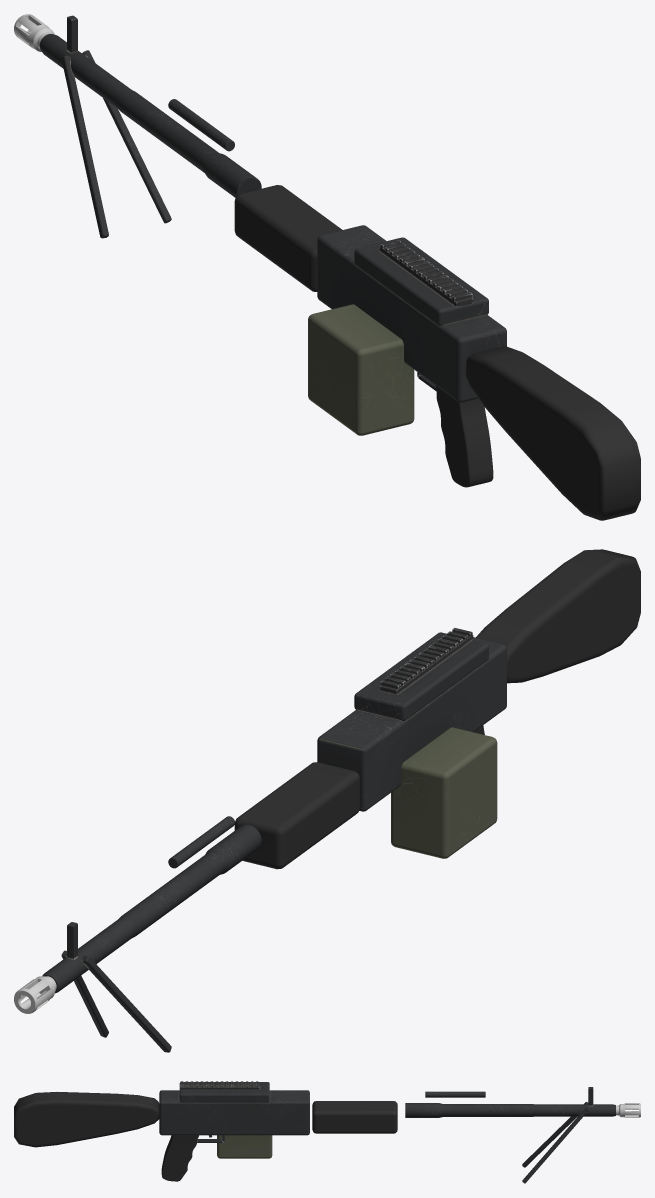
3 views of the same model, one above another, from view 1: azimuth 30°, elevation 25°; view 2: azimuth 150°, elevation 25°; view 3: azimuth 270°, elevation 25° (orthographic). The views are drawn at different scales.
Parts seen in each view (by area): view 1: Frame, Stock, Mag_body, FlashHider; view 2: Frame, Stock, Mag_body, FlashHider; view 3: Frame, Stock, Mag_body, FlashHider.
Part boxes in pixels (x1,y1,x2,y2): Frame: [39, 15, 506, 487]; Stock: [465, 346, 640, 520]; Mag_body: [308, 304, 414, 435]; FlashHider: [14, 14, 54, 51]; Frame: [42, 627, 506, 1052]; Stock: [476, 549, 640, 683]; Mag_body: [391, 727, 497, 858]; FlashHider: [14, 976, 56, 1013]; Frame: [159, 1081, 615, 1183]; Stock: [14, 1092, 159, 1147]; Mag_body: [217, 1135, 272, 1158]; FlashHider: [616, 1103, 640, 1117].
Size of the model in its own units: 0.1272 by 0.2092 by 1.25.
